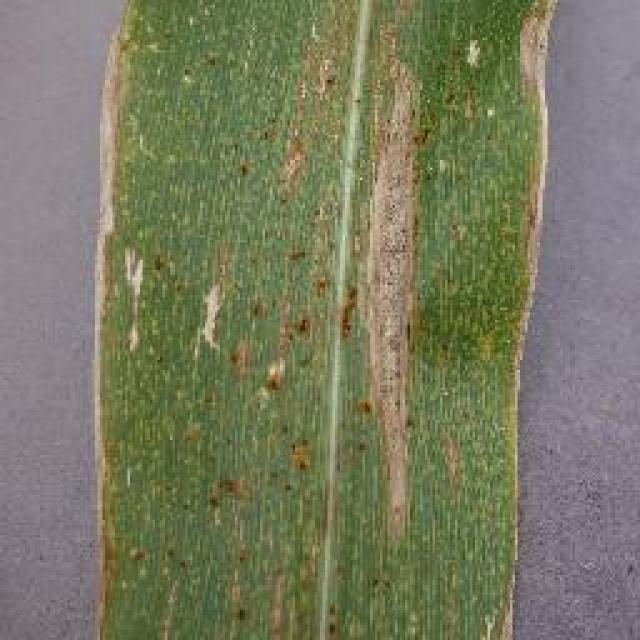Corn___Northern_Leaf_Blight: (85, 12, 607, 640)
